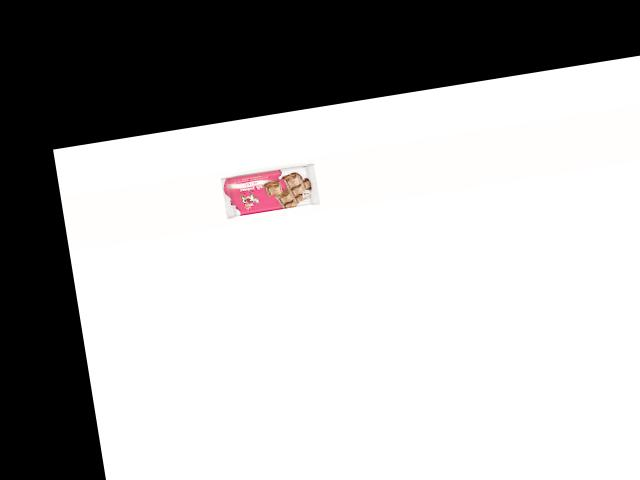chocolate: (201, 141, 321, 215)
